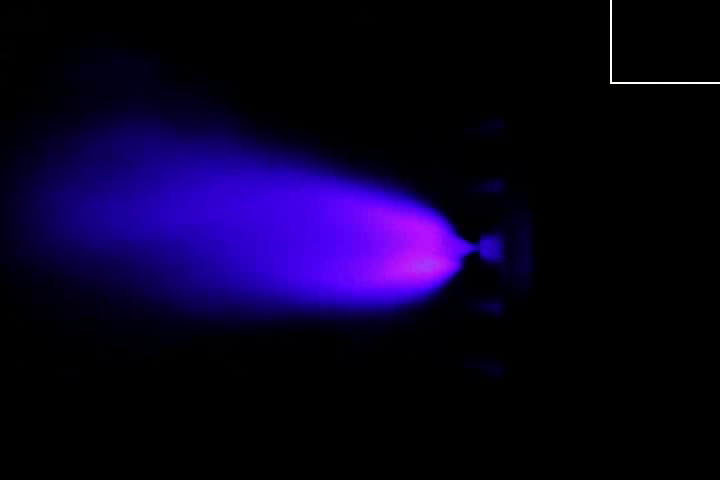burner cap: (478, 234, 508, 265)
stable: (346, 177, 472, 310)
